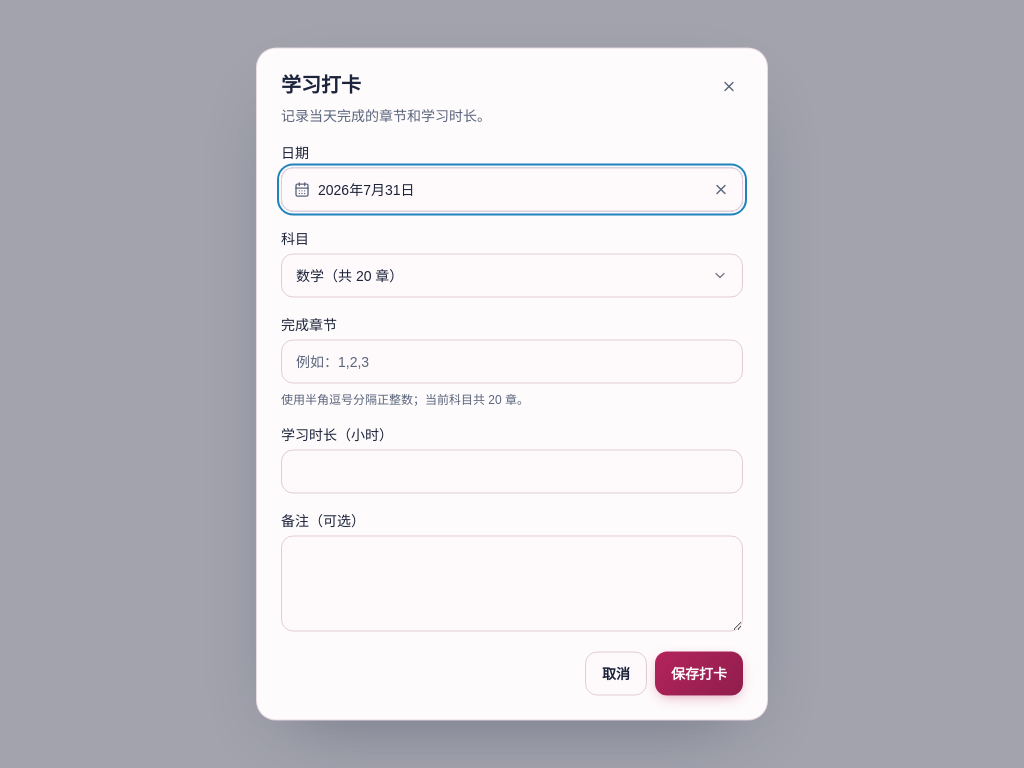
Test: StudyCheckinDialog › rejects 小数章节
Click the dropdown named "科目": (340,276) 281,254 -> 743,298
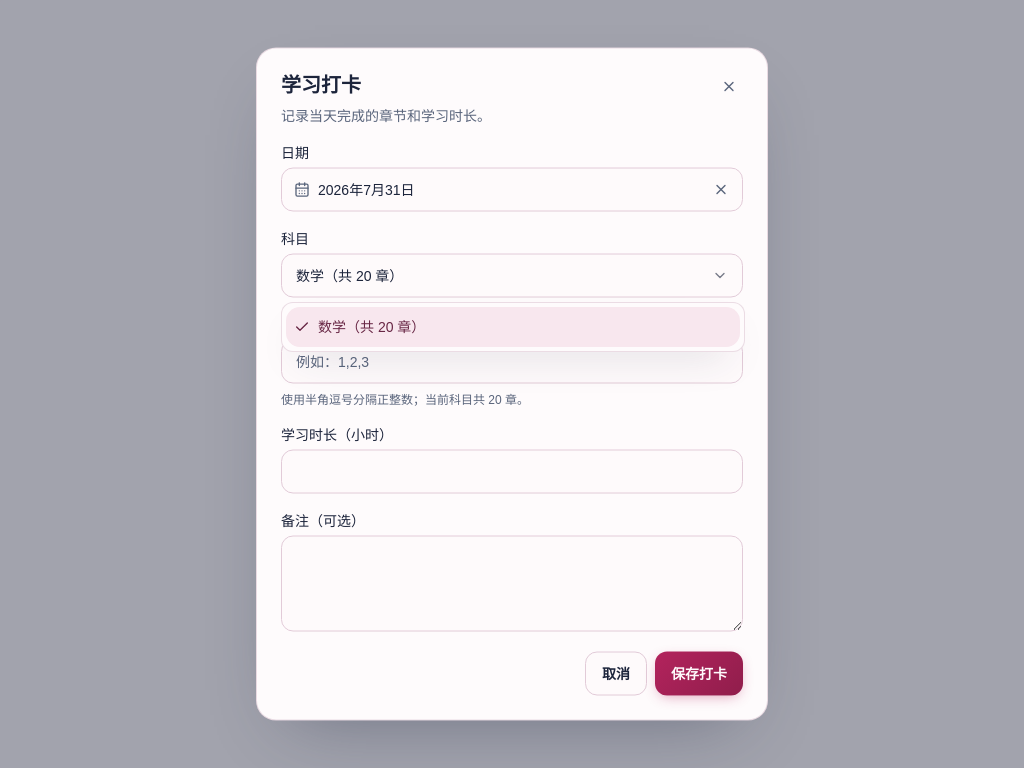
Click the option "数学（共 20 章）": (362,327) 286,307 -> 740,347
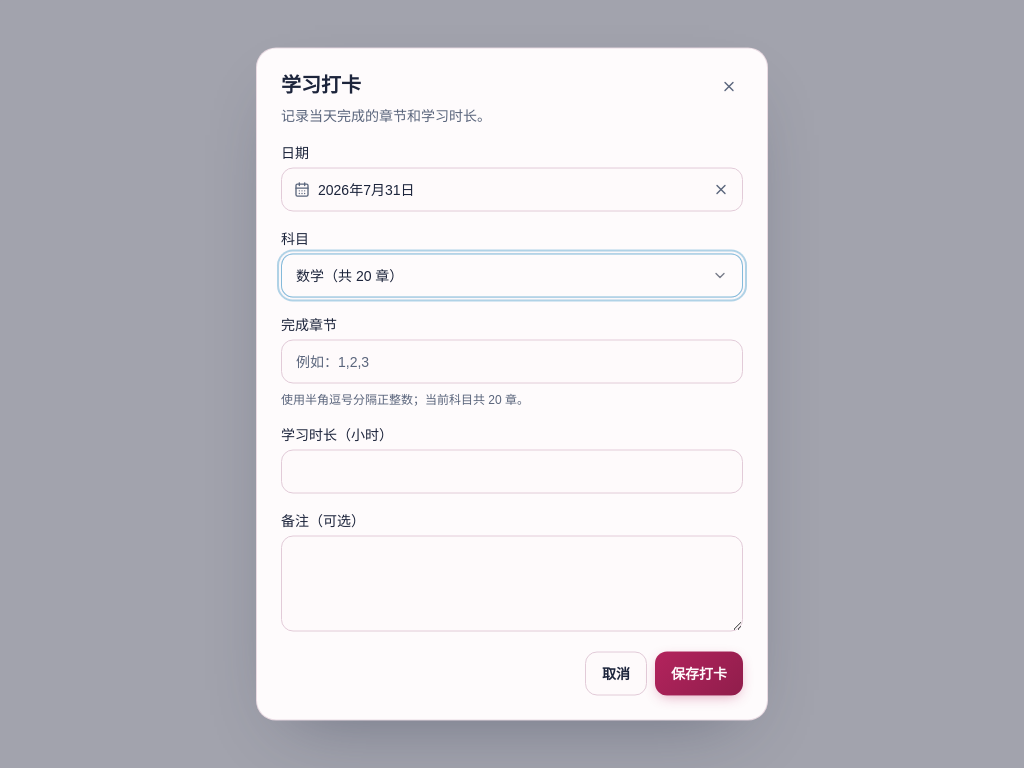
In the field labelled "完成章节": (512,362) 281,340 -> 743,384, type "1,1.5"
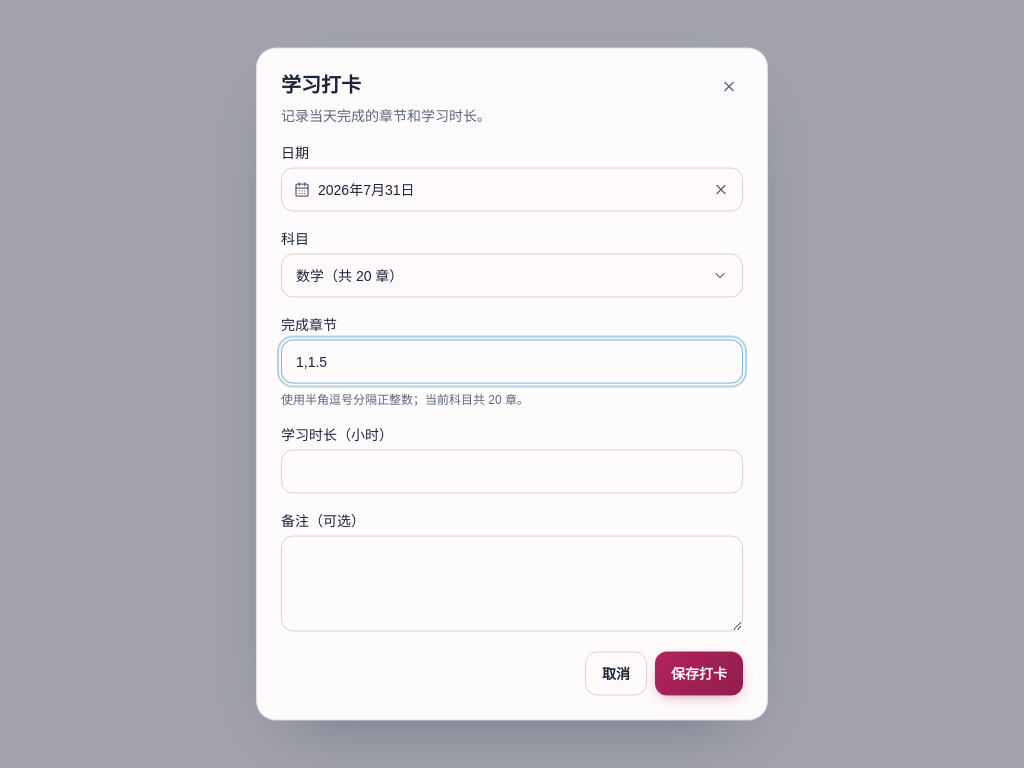
In the number field labelled "学习时长（小时）": (512,472) 281,450 -> 743,494, type "1"
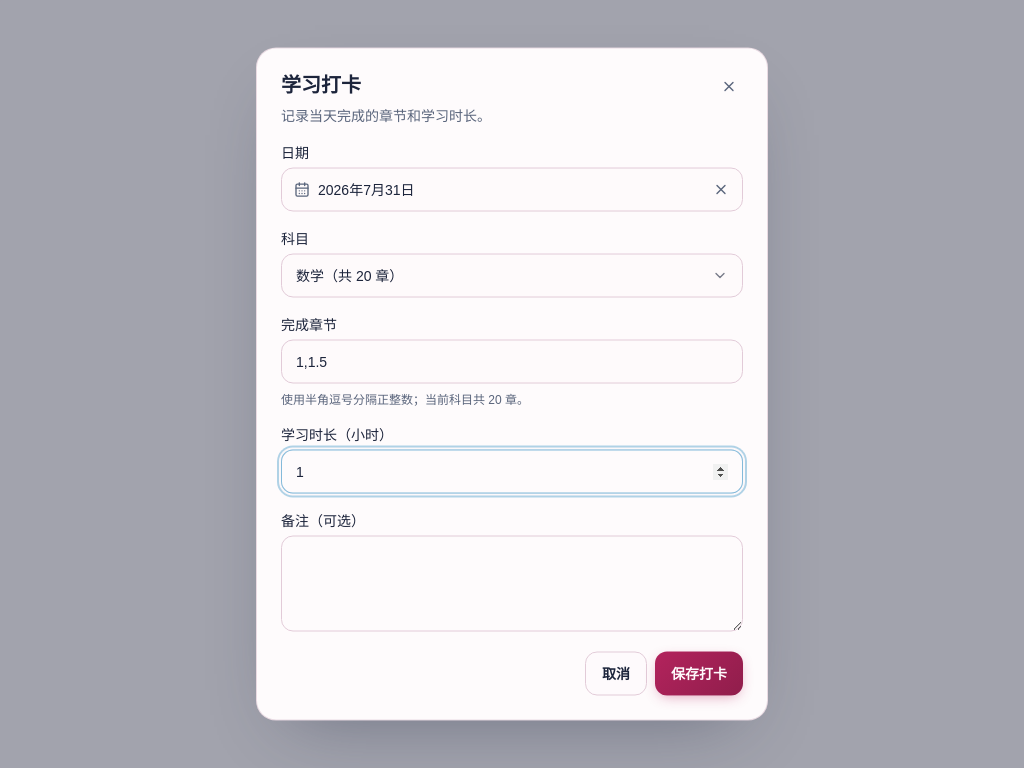
Click the button "保存打卡": (699,674) 655,652 -> 743,696
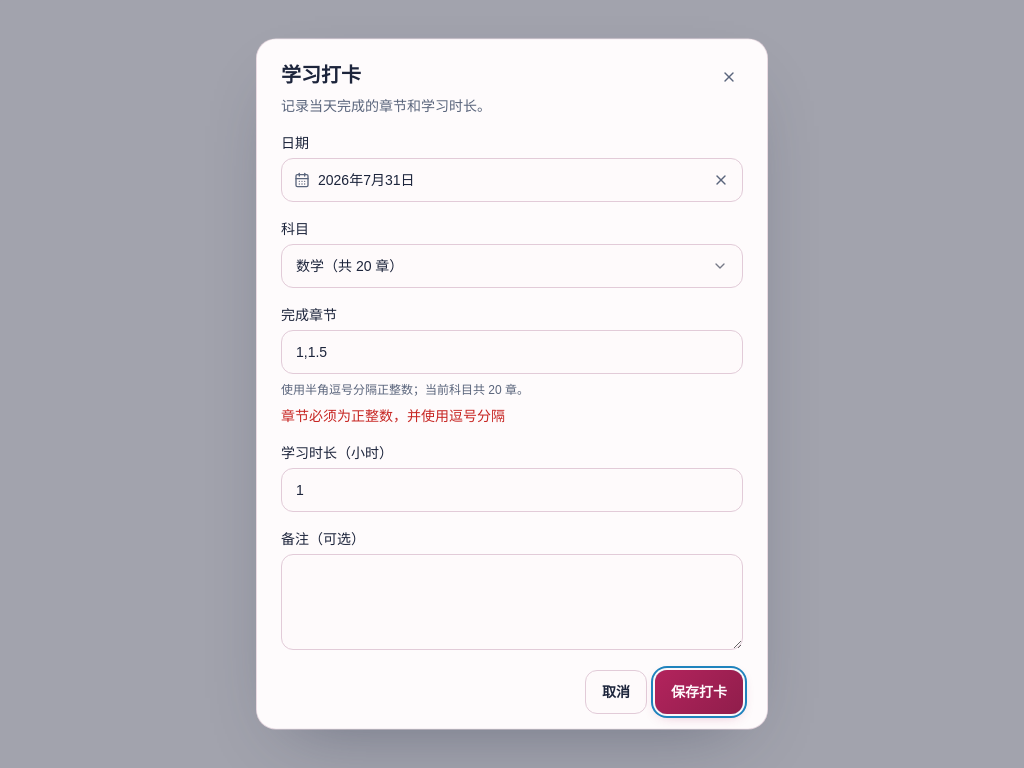
Expected: the text "章节必须为正整数，并使用逗号分隔" is shown, 281,408 -> 505,424
